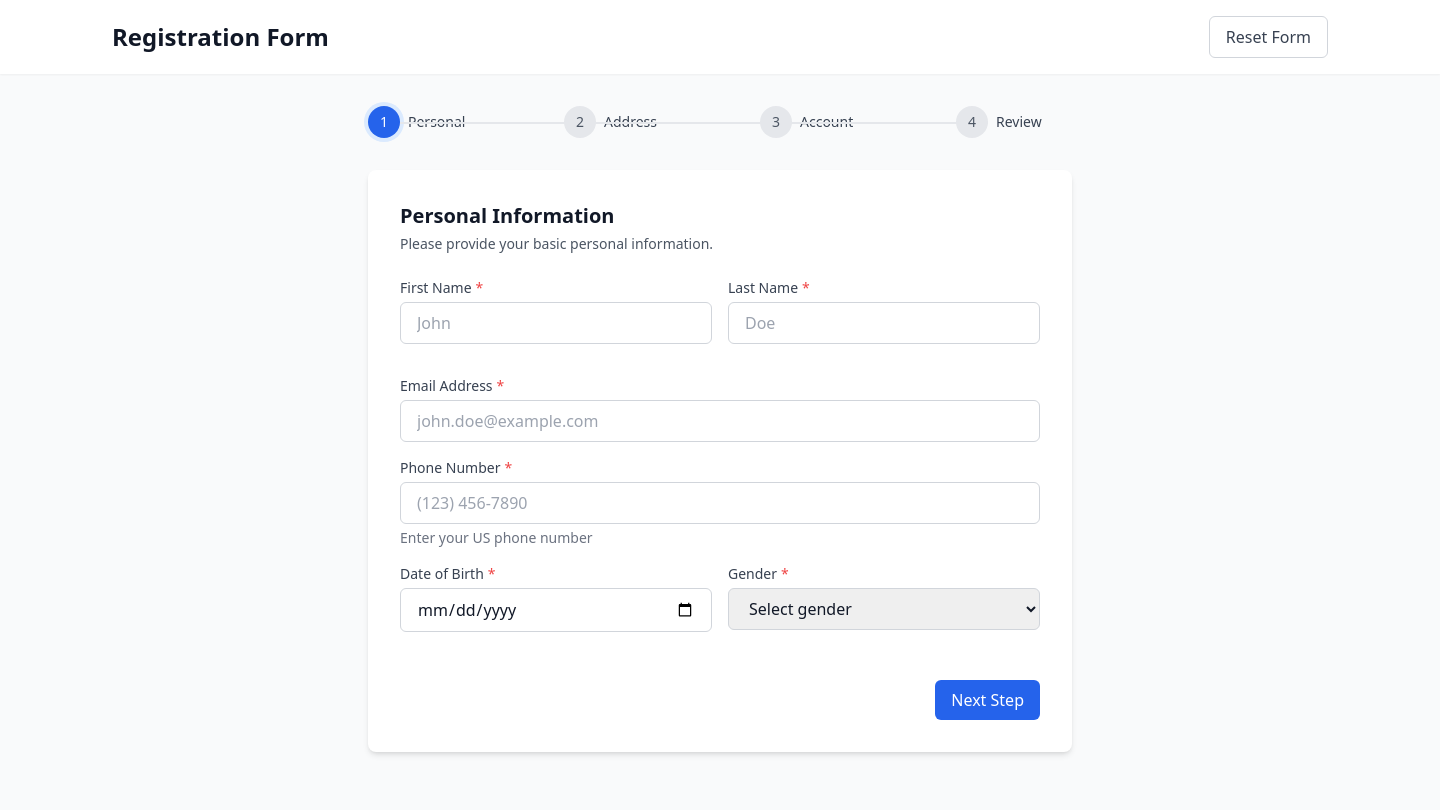
Test: PersonalInfo Component › validates email format
This screenshot has width=1440, height=810.
Step 1. Type "invalid-email" into the field labelled "Email Address*" → [720, 421], box [400, 400, 1040, 442]
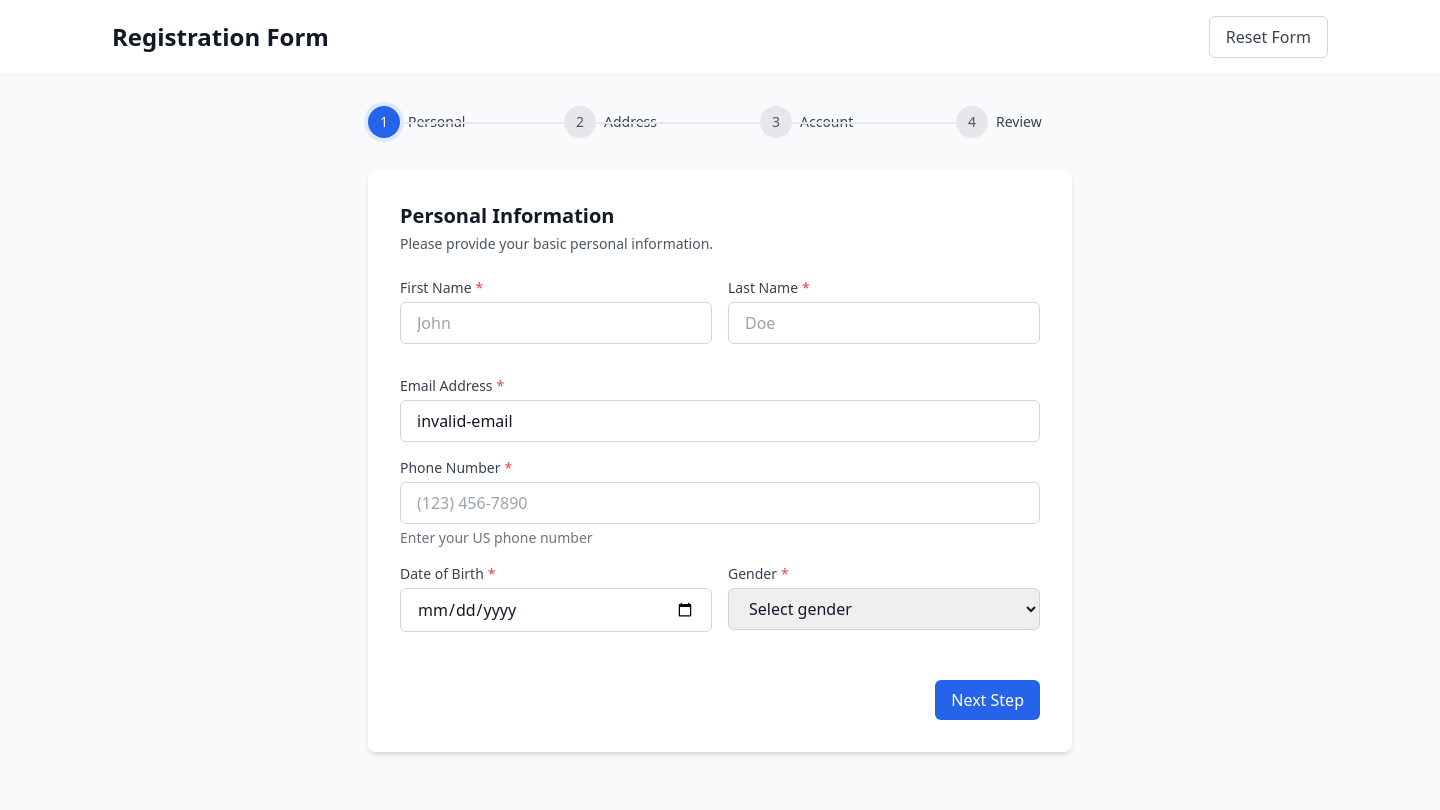
Step 2. Click the button with test id "personal-next-btn" → [988, 700], box [935, 680, 1040, 720]
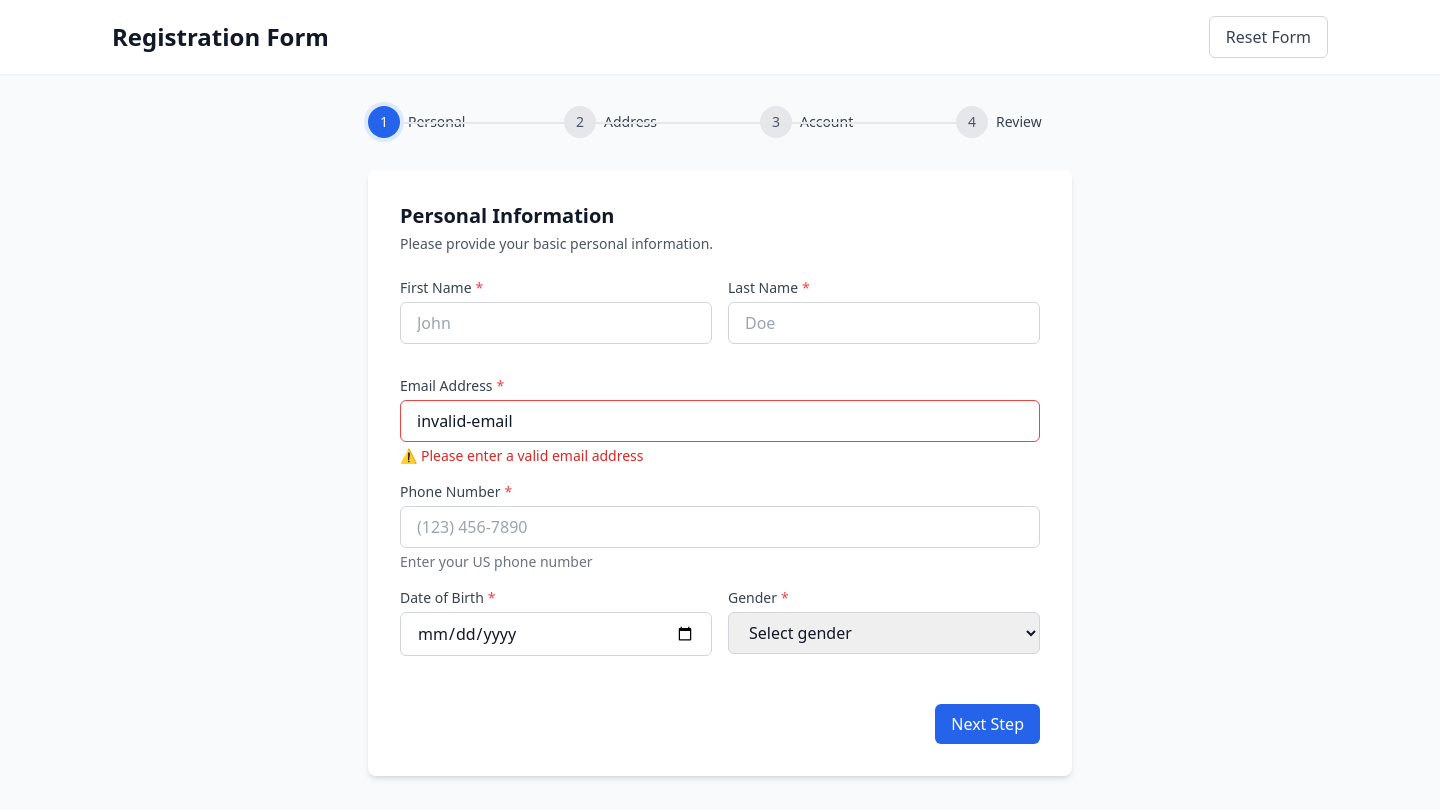
Result: the text "Please enter a valid email address" is shown at [421, 446, 644, 465]
